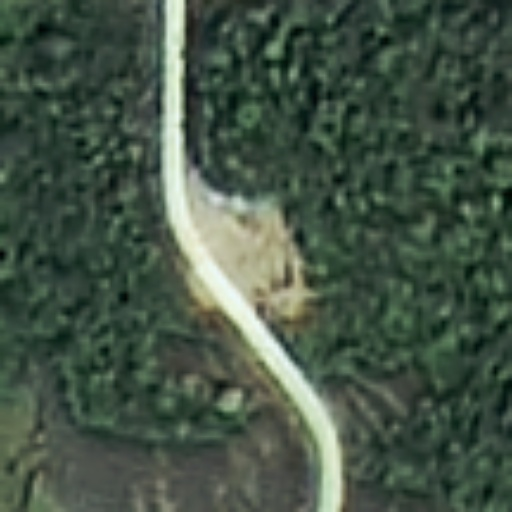landslide: (189, 173, 307, 321)
